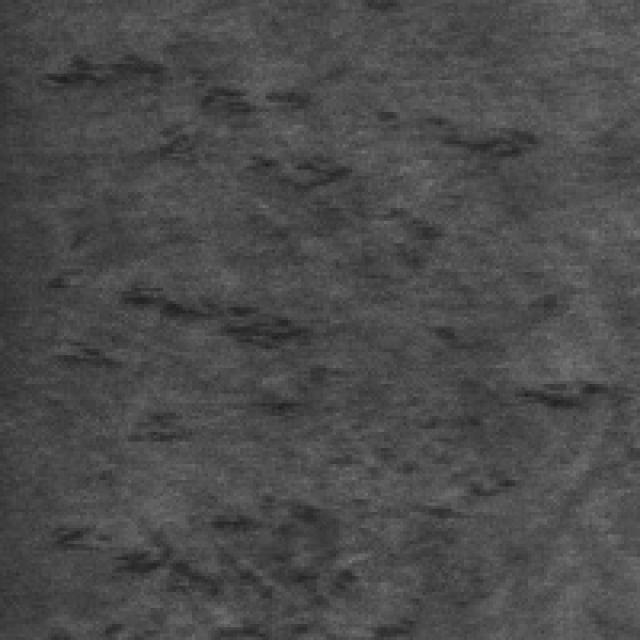rolled-in_scale: (77, 84, 528, 502), (45, 371, 608, 618)
